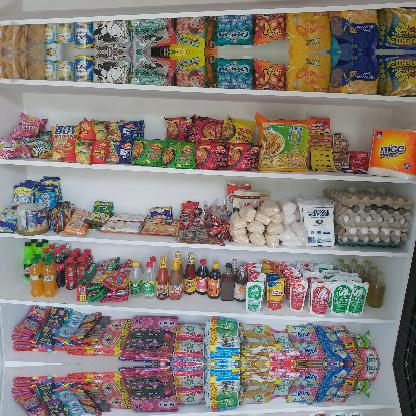Lady-s-Choice: (17, 202, 49, 236)
